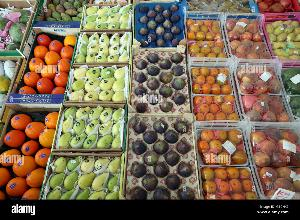apricot: (195, 125, 251, 165), (202, 169, 256, 202), (194, 95, 244, 123), (191, 65, 233, 97), (186, 19, 224, 40), (188, 40, 226, 60)
figs: (125, 119, 195, 201), (134, 47, 188, 111), (134, 1, 186, 45)
guava: (48, 154, 124, 198), (64, 104, 126, 152), (67, 66, 129, 100), (79, 6, 133, 34), (78, 36, 132, 62)
mango: (0, 2, 34, 54)
peach: (252, 128, 300, 166), (248, 166, 300, 200), (238, 61, 284, 95), (243, 96, 289, 120), (228, 15, 264, 40), (230, 39, 268, 61)
pear: (264, 18, 300, 60)
persimmon: (0, 103, 62, 196), (20, 26, 80, 101)
